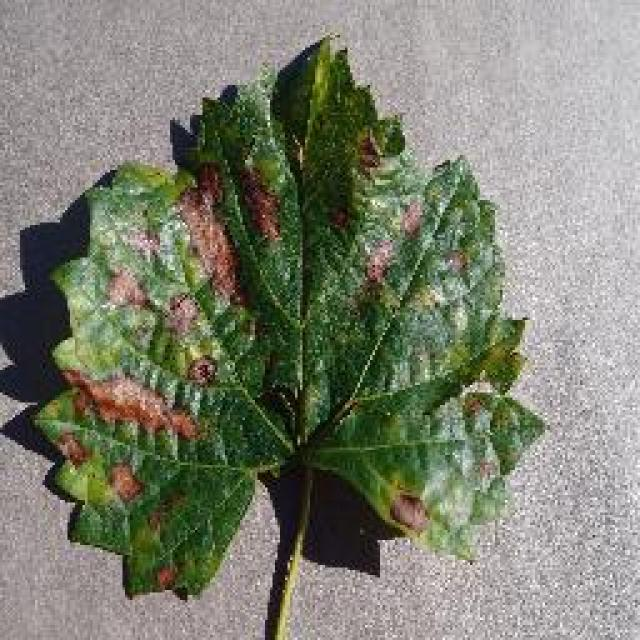Black_Measles: (36, 27, 568, 606)
